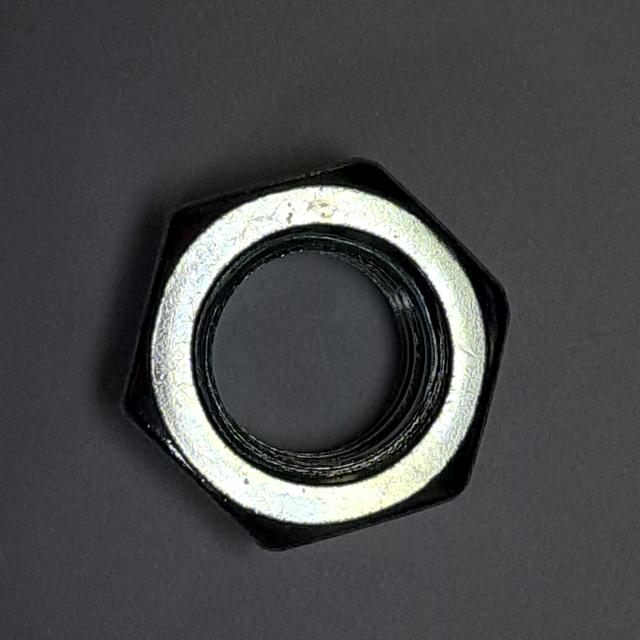Excellent: (105, 147, 521, 565)
